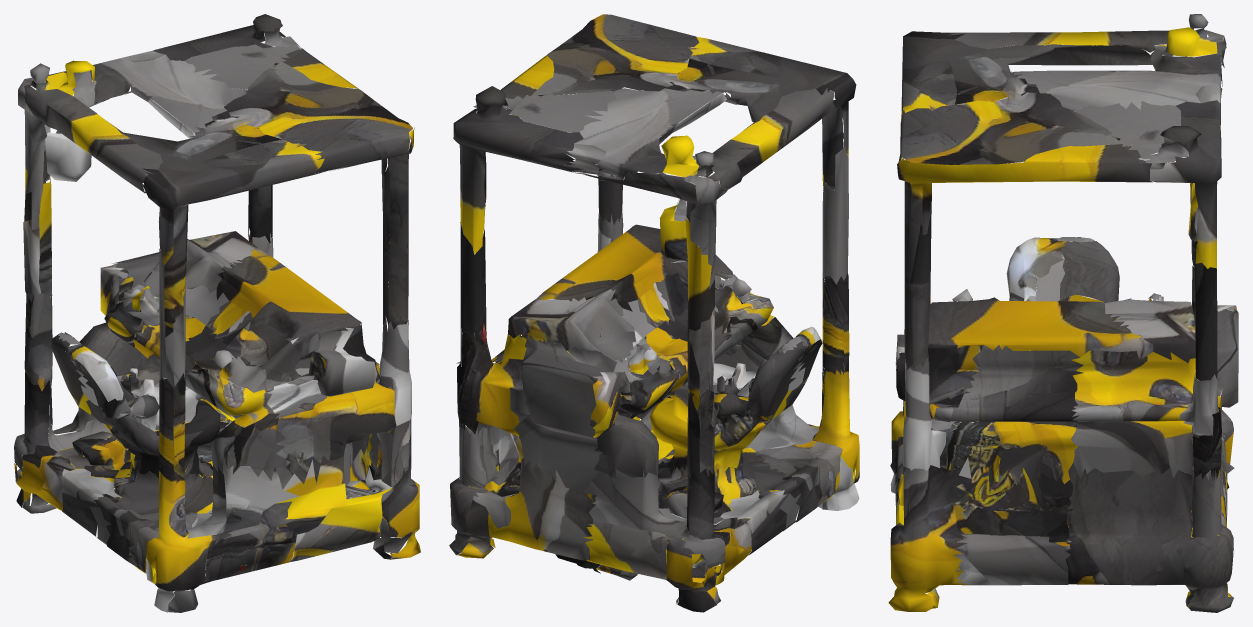
Rendered from env_cargo_crane_operator_console_01.glb.
3 views of the same model, side by side, from view 1: azimuth 30°, elevation 25°; view 2: azimuth 150°, elevation 25°; view 3: azimuth 270°, elevation 25° (orthographic). The views are drawn at different scales.
Visible parts, largest first — view 1: tripo_node_bd385e38-ea7a-46a8-aaab-e6c800478f3d; view 2: tripo_node_bd385e38-ea7a-46a8-aaab-e6c800478f3d; view 3: tripo_node_bd385e38-ea7a-46a8-aaab-e6c800478f3d.
Boxes of the visible parts, bbox=[...] form: tripo_node_bd385e38-ea7a-46a8-aaab-e6c800478f3d: bbox=[14, 14, 420, 612]; tripo_node_bd385e38-ea7a-46a8-aaab-e6c800478f3d: bbox=[449, 14, 859, 612]; tripo_node_bd385e38-ea7a-46a8-aaab-e6c800478f3d: bbox=[888, 14, 1238, 612].
Bounding box in the file's own units: 0.6697 × 1 × 0.6698.
Materials: 1 (1 with a texture image).
